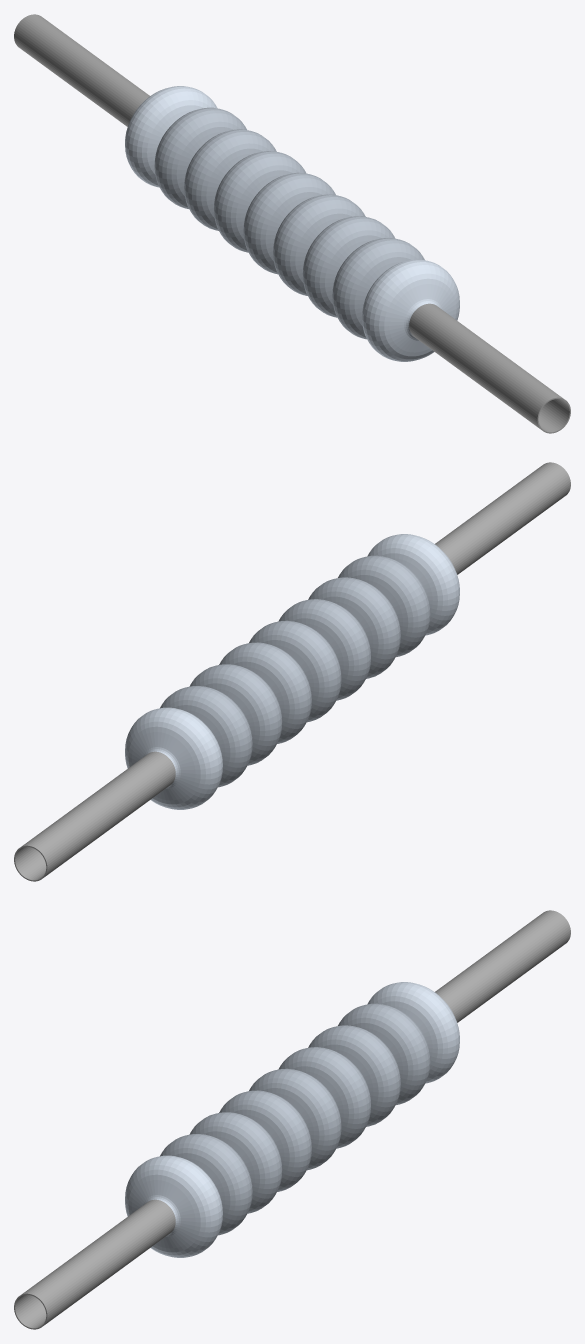
Rendered from cavity.gltf.
The picture shows the model from 3 angles, top to bottom: view 1: azimuth 30°, elevation 25°; view 2: azimuth 150°, elevation 25°; view 3: azimuth 330°, elevation 25°; orthographic projection.
Visible parts, largest first — view 1: Renderer Node; view 2: Renderer Node; view 3: Renderer Node.
Boxes of the visible parts, <box> form: Renderer Node: <box>14,14,570,433</box>; Renderer Node: <box>14,462,570,881</box>; Renderer Node: <box>14,910,570,1329</box>.
Bounding box in the file's own units: 208 × 208 × 2039.
